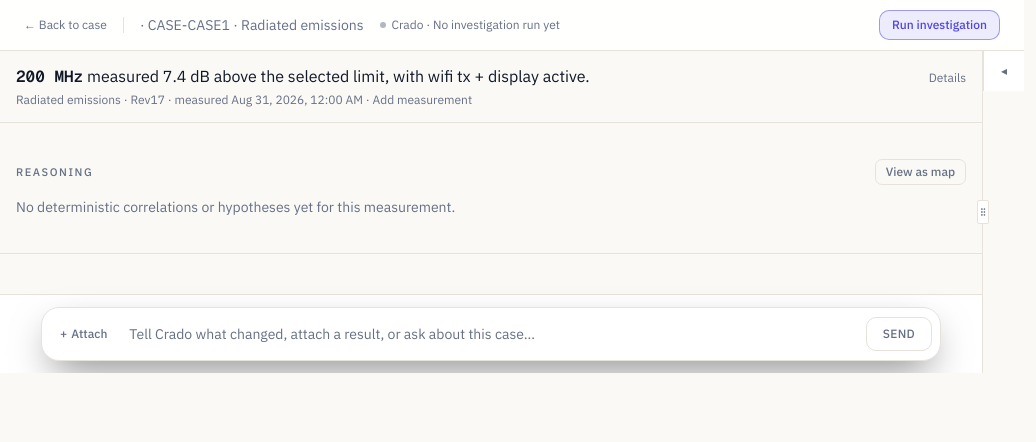
Test case: InvestigationWorkspace — streaming › shows a clear message when the run completes with no correlations or hypotheses (empty hypotheses case)
Click the button "Run investigation" at (940, 25), box [879,10,1000,40]
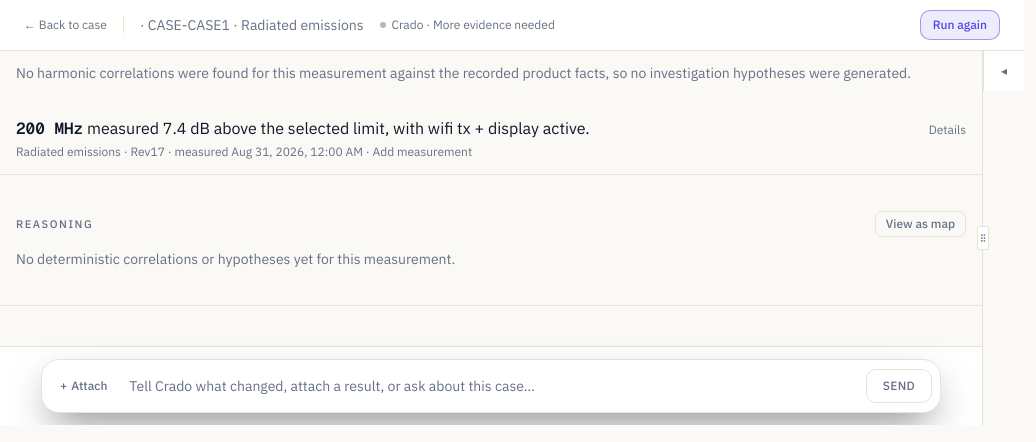
Check: the text "No harmonic correlations were found" is shown, box [16,64,911,82]
